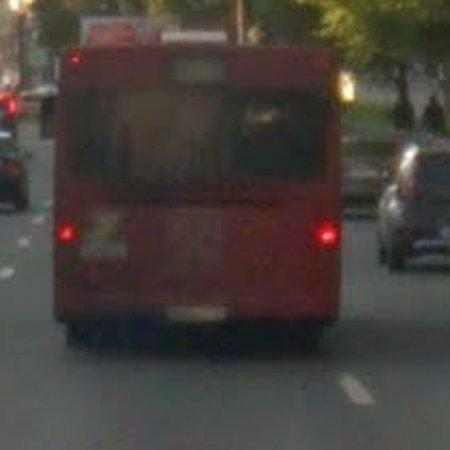buses: (54, 29, 341, 328)
